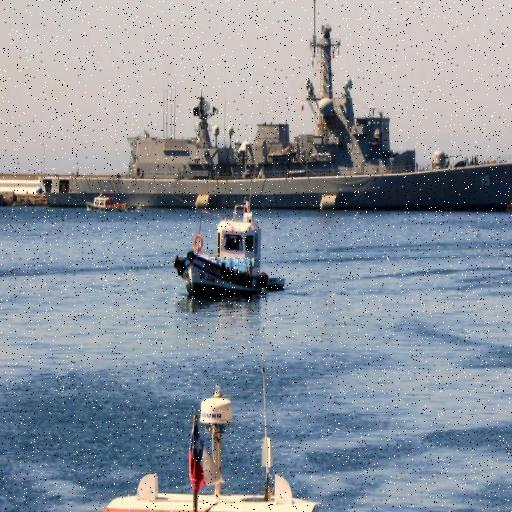Fragata: (40, 1, 512, 217)
